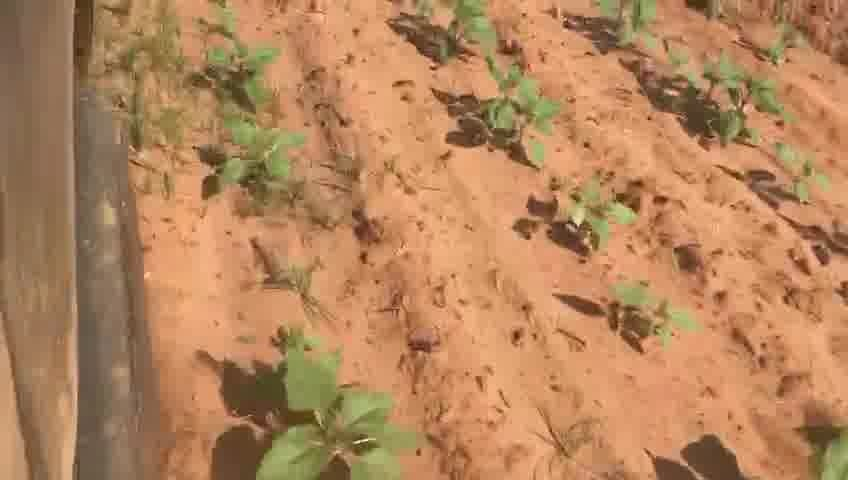sunflower: (219, 335, 418, 476), (538, 166, 645, 260), (465, 67, 560, 172), (199, 117, 312, 201), (605, 268, 702, 355), (190, 28, 285, 111), (703, 50, 781, 150), (410, 4, 506, 72), (769, 133, 827, 199), (647, 34, 701, 96)
